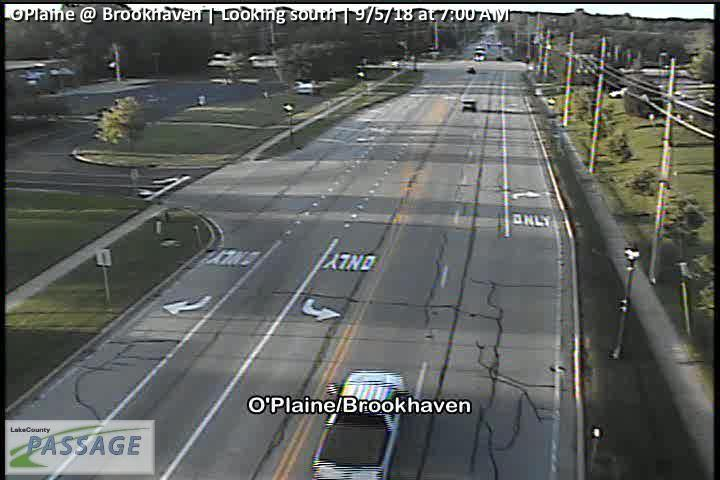SUV: (462, 99, 476, 112)
Sedan: (311, 369, 404, 480)
